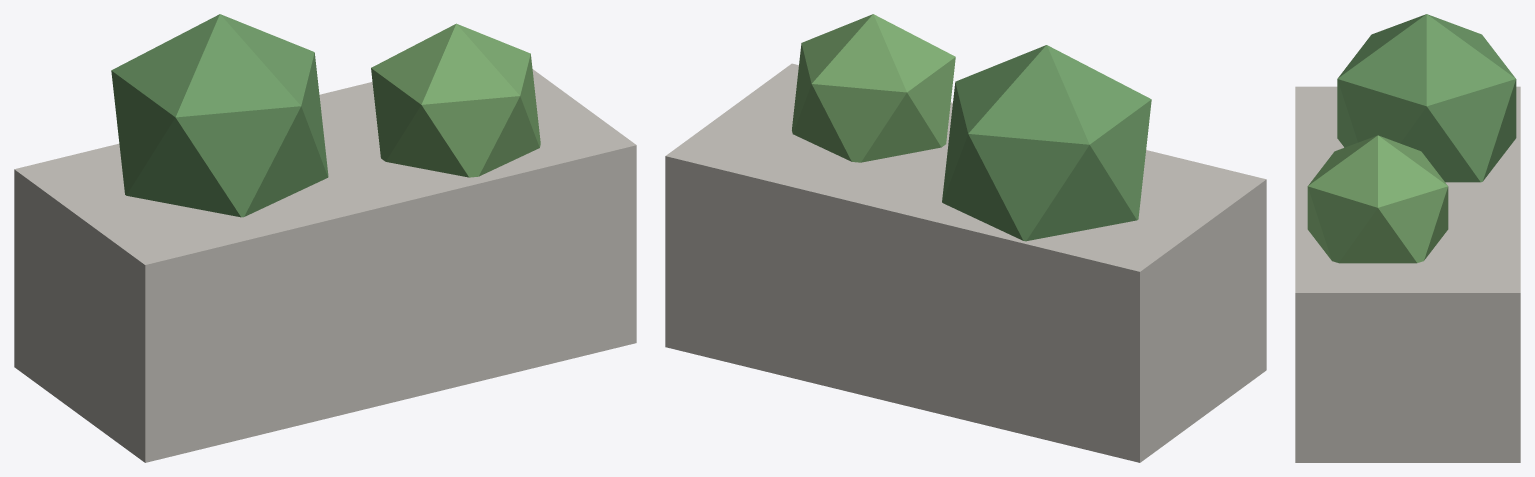
The model's file is planter.glb.
3 renders of one model, left to right at view 1: azimuth 30°, elevation 25°; view 2: azimuth 150°, elevation 25°; view 3: azimuth 270°, elevation 25°, orthographic. The views are drawn at different scales.
Visible parts, largest first — view 1: planter_box, planter_b1, planter_b2; view 2: planter_box, planter_b1, planter_b2; view 3: planter_box, planter_b1, planter_b2.
Part boxes in pixels (x1,y1,x2,y2): planter_box: (14,69,636,462); planter_b1: (111,14,328,217); planter_b2: (371,23,540,177); planter_box: (665,63,1266,462); planter_b1: (942,45,1151,241); planter_b2: (792,14,955,162); planter_box: (1295,86,1520,462); planter_b1: (1337,14,1516,182); planter_b2: (1307,135,1448,263).
Size of the model in its own units: 1.3 by 0.9 by 0.6.
